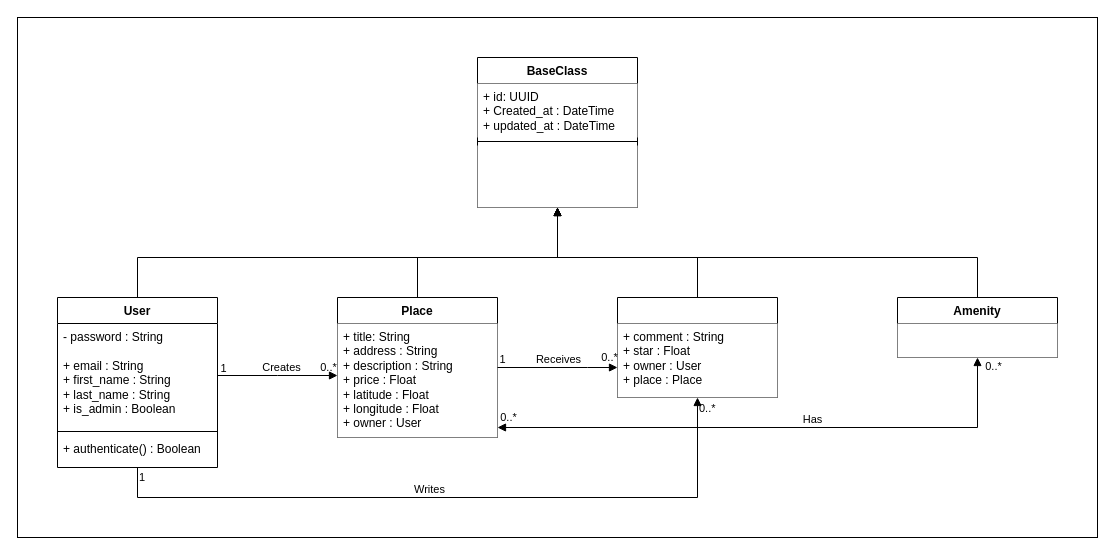
Image size: 1115x555. Some labels were removed from this diagram. Each missing label, with the box of its shape:
+ create() : BaseClass + update() : void + delete() : void: (477, 145, 637, 207)
+ name : String: (897, 323, 1057, 357)
Review: (616, 296, 778, 398)
